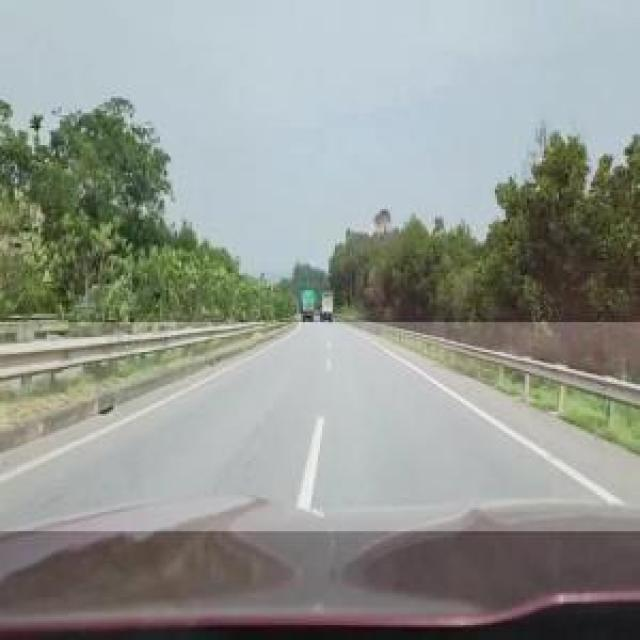clear-road: (0, 324, 640, 531)
